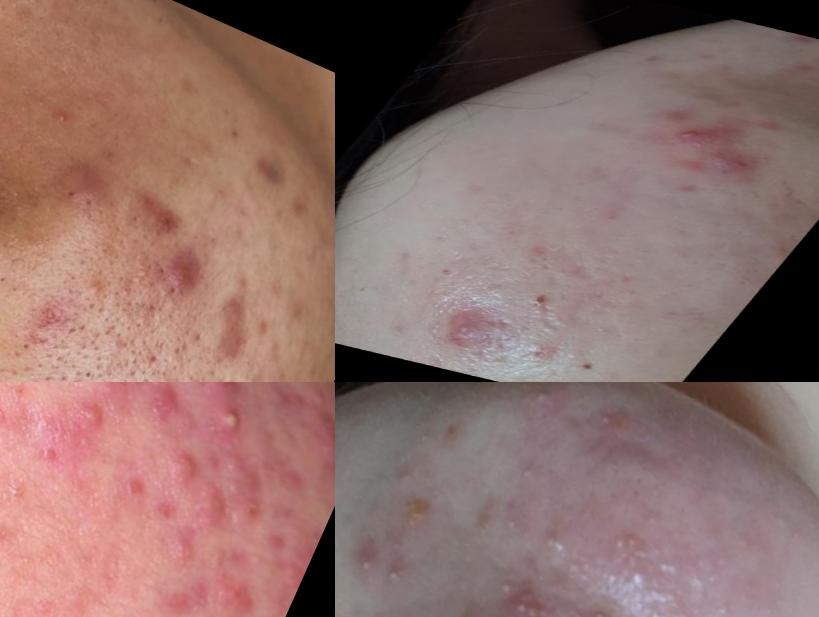acne_scars: (233, 131, 309, 209), (203, 287, 268, 371), (19, 283, 89, 346), (43, 90, 80, 135)
keloid: (273, 383, 336, 481)
papular: (1, 383, 114, 489), (183, 430, 297, 535), (139, 504, 228, 597), (118, 183, 200, 261), (54, 140, 129, 214), (202, 558, 291, 617), (151, 233, 222, 306), (62, 385, 136, 443), (680, 139, 772, 184), (151, 430, 218, 487), (173, 481, 237, 540), (660, 115, 743, 158), (1, 383, 32, 478), (83, 267, 121, 312)
purulent: (194, 383, 277, 464), (523, 383, 560, 415), (380, 555, 412, 591), (586, 592, 631, 617), (593, 399, 624, 433), (353, 548, 382, 583)
sebo-crystan-conglo: (409, 289, 538, 366), (598, 519, 694, 592), (597, 560, 704, 617), (195, 385, 278, 452), (486, 574, 580, 617), (390, 487, 442, 540), (532, 522, 583, 566)
whitehead: (684, 541, 734, 591), (1, 502, 27, 561), (496, 504, 533, 542), (511, 458, 545, 487), (636, 507, 669, 535), (705, 593, 743, 617)
